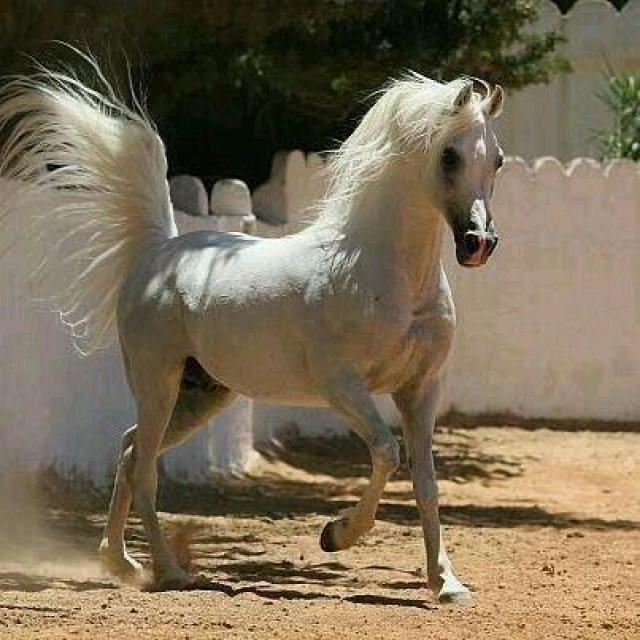horse: (0, 35, 507, 605)
